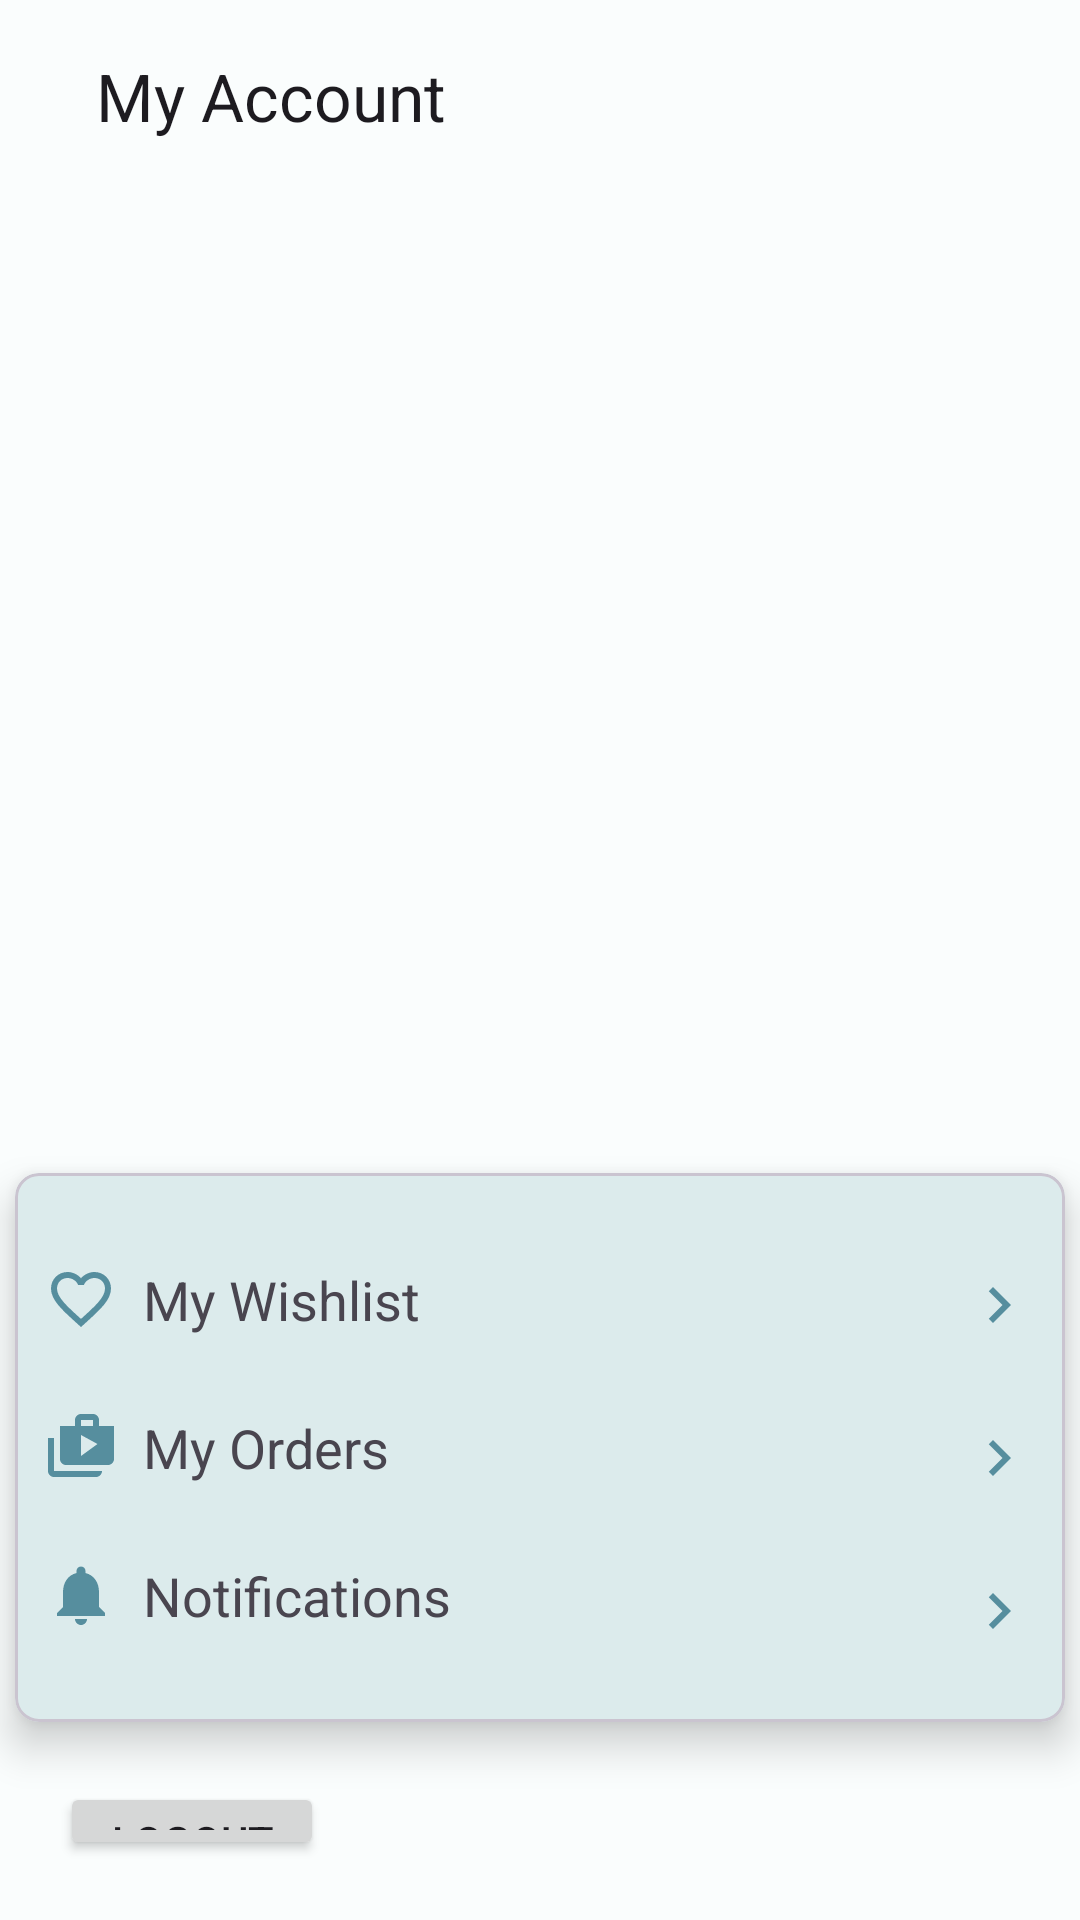

Named icons in this screenshot (1080×1920) and their centers, (x,y):
next: (1000,1305), (1000,1458), (1000,1611)
